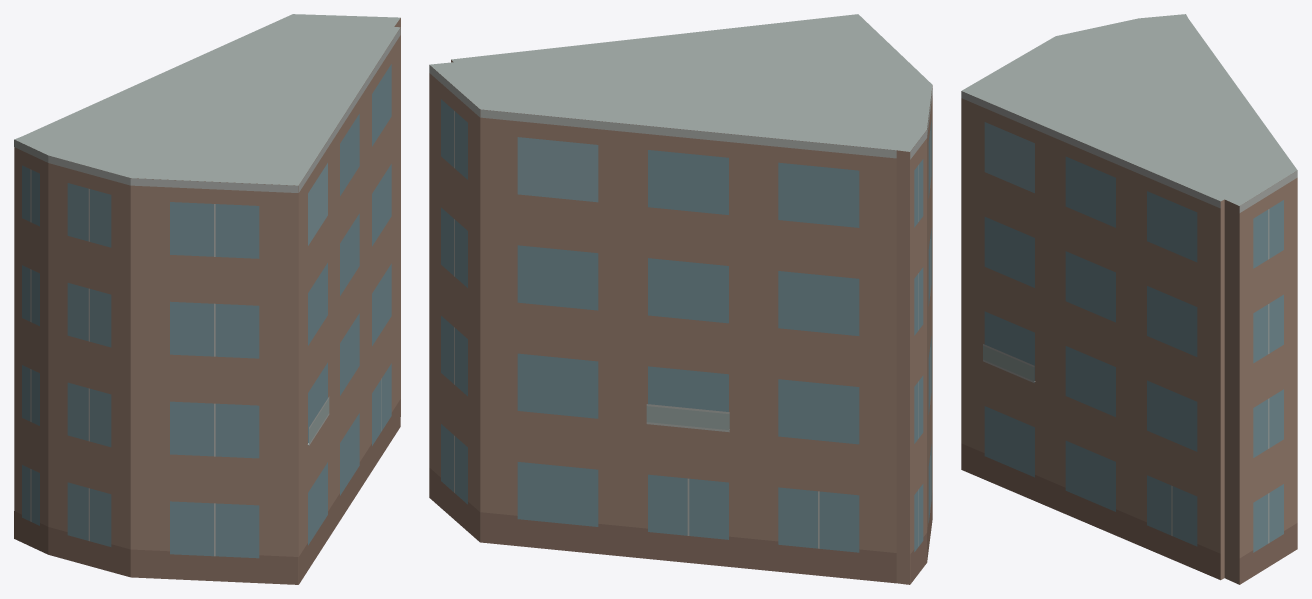
File: survey-upis-32985711.glb
The picture shows the model from 3 angles, left to right: view 1: azimuth 30°, elevation 25°; view 2: azimuth 150°, elevation 25°; view 3: azimuth 270°, elevation 25°; orthographic projection. The views are drawn at different scales.
Parts seen in each view (by area): view 1: survey-upis-32985711.tmp; view 2: survey-upis-32985711.tmp; view 3: survey-upis-32985711.tmp.
Boxes of the visible parts, box(x1,y1,x2,y2) form: survey-upis-32985711.tmp: box(14, 14, 400, 584); survey-upis-32985711.tmp: box(429, 14, 932, 584); survey-upis-32985711.tmp: box(961, 14, 1297, 584).
Bounding box in the file's own units: 14.04 × 12.9 × 10.39.
